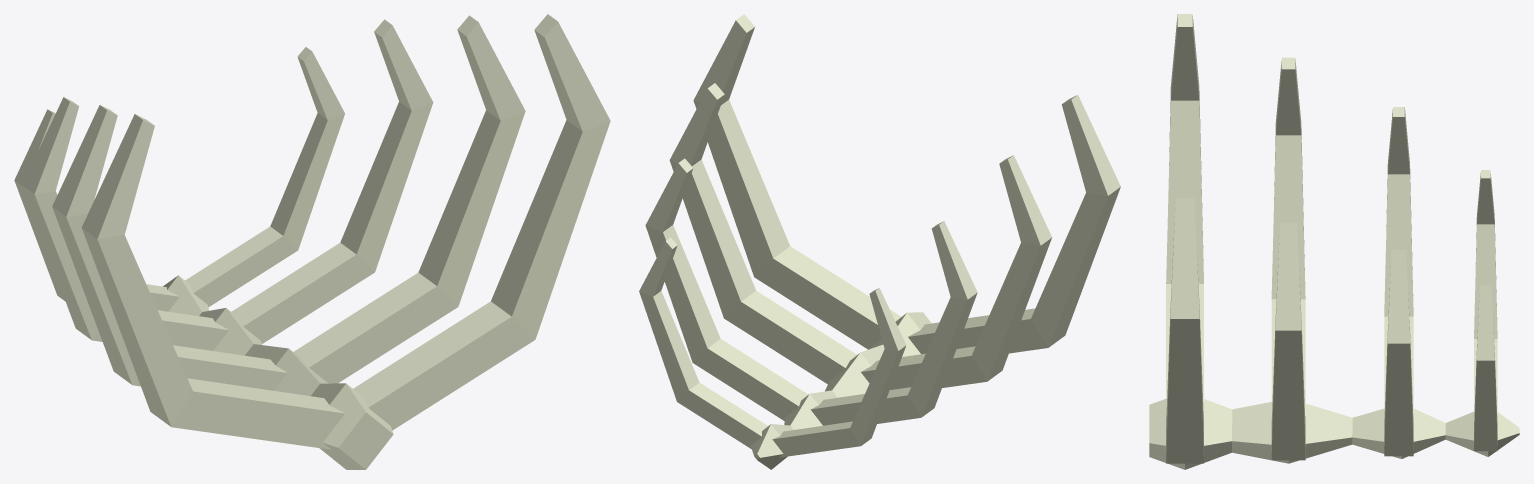
Rendered from Bones.fbx.
3 renders of one model, left to right at view 1: azimuth 30°, elevation 25°; view 2: azimuth 150°, elevation 25°; view 3: azimuth 270°, elevation 25°, orthographic. The views are drawn at different scales.
Parts seen in each view (by area): view 1: Cube; view 2: Cube; view 3: Cube.
Boxes of the visible parts, box(x1,y1,x2,y2) form: Cube: box(14, 14, 610, 469); Cube: box(639, 14, 1120, 469); Cube: box(1149, 14, 1519, 469).
Size of the model in its own units: 49.22 by 36.99 by 34.07.
